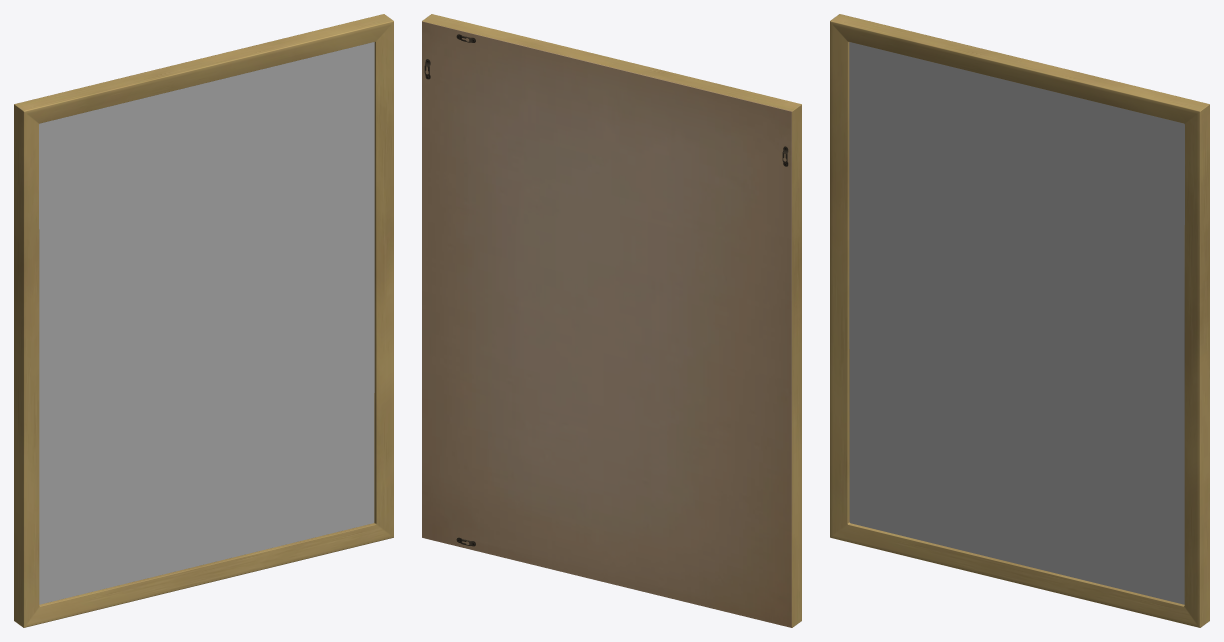
File: abo-B07RQMSP2S.glb
3 views of the same model, side by side, from view 1: azimuth 30°, elevation 25°; view 2: azimuth 150°, elevation 25°; view 3: azimuth 330°, elevation 25° (orthographic).
Size of the model in its own units: 0.762 by 1.02 by 0.04.
1 material, 1 textured.
